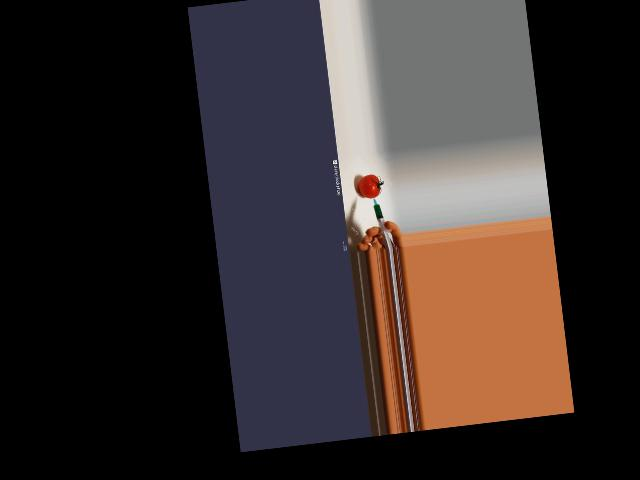tomato: (357, 174, 380, 200)
